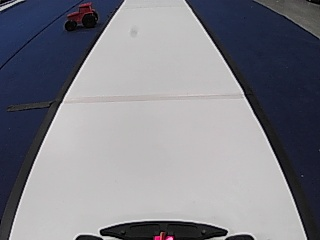Tracktor: (59, 1, 105, 35)
